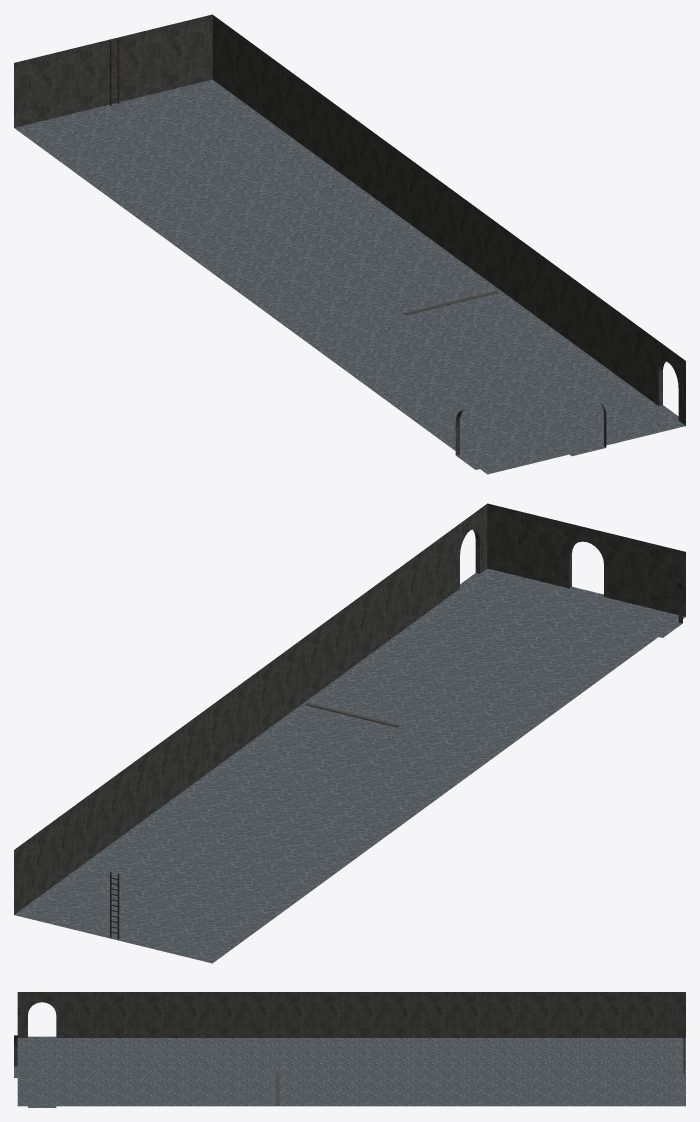
Rendered from rumors-vault.db0c644a.gltf.
The picture shows the model from 3 angles, top to bottom: view 1: azimuth 30°, elevation 25°; view 2: azimuth 150°, elevation 25°; view 3: azimuth 270°, elevation 25°; orthographic projection. The views are drawn at different scales.
Visible parts, largest first — view 1: rumors-vault-mesh; view 2: rumors-vault-mesh; view 3: rumors-vault-mesh.
Part boxes in pixels (bbox=[...]): rumors-vault-mesh: bbox=[14, 14, 685, 474]; rumors-vault-mesh: bbox=[14, 503, 685, 963]; rumors-vault-mesh: bbox=[14, 992, 685, 1107].
Bounding box in the file's own units: 12 × 3.6 × 47.75.
Materials: 4 (3 with a texture image).
